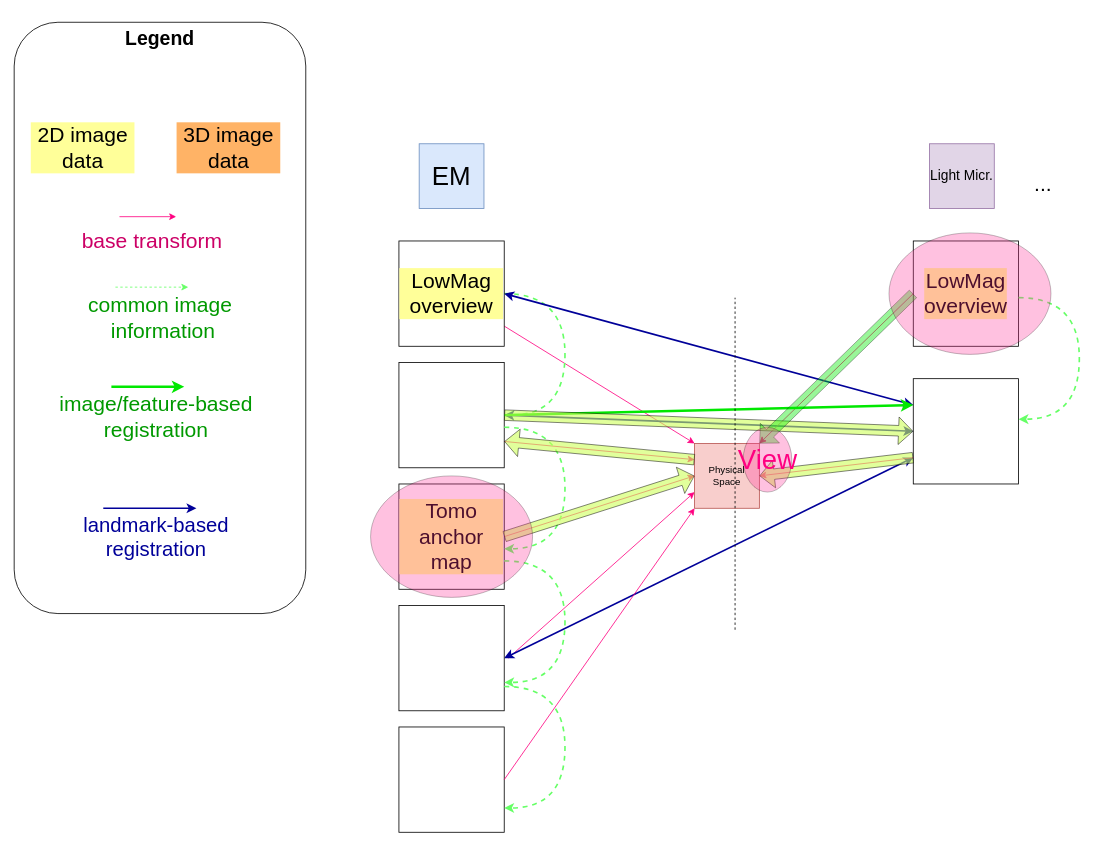
Some shapes in this 1094 by 846 pixel diagram are drawn without their labels. Here are the shapes that lost their labels. From the top down, the box of each, then its label:
(398, 362, 504, 468): Higher mag map
(912, 378, 1019, 484): Higher mag image
(398, 605, 504, 711): LM Tomo
(398, 726, 504, 832): HM Tomo
